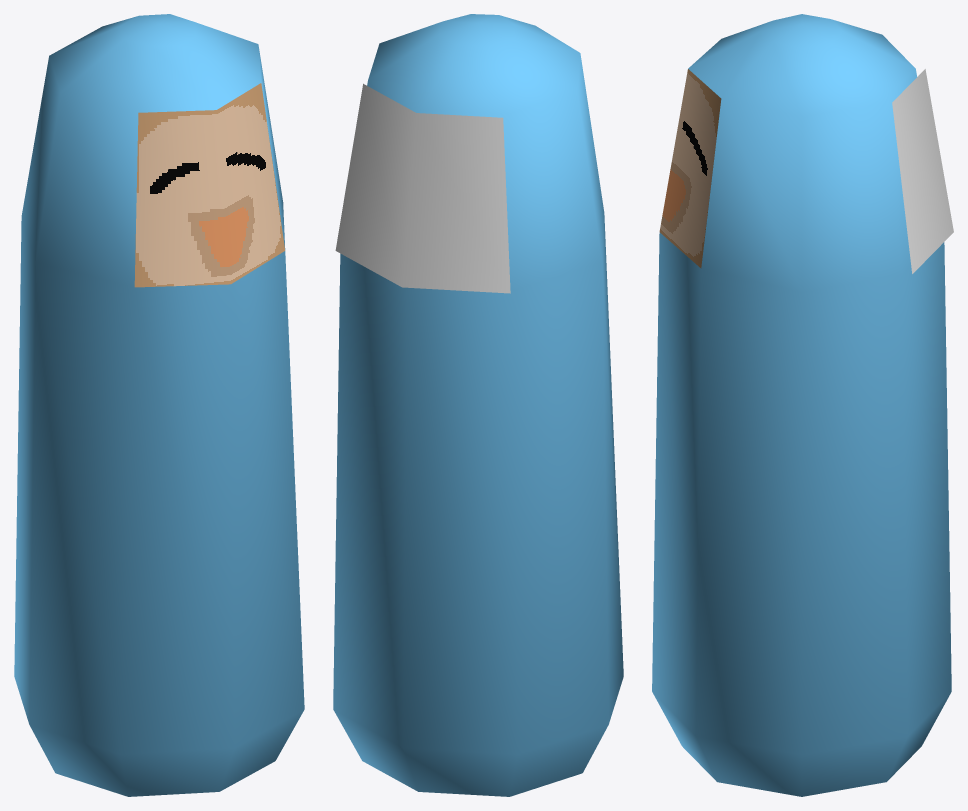
Rendered from OTA_N_02.glb.
3 views of the same model, side by side, from view 1: azimuth 30°, elevation 25°; view 2: azimuth 150°, elevation 25°; view 3: azimuth 270°, elevation 25° (orthographic).
Parts seen in each view (by area): view 1: FRAME_ROOT; view 2: FRAME_ROOT; view 3: FRAME_ROOT.
Boxes of the visible parts, bbox=[...] form: FRAME_ROOT: bbox=[14, 14, 304, 796]; FRAME_ROOT: bbox=[333, 14, 623, 796]; FRAME_ROOT: bbox=[652, 14, 953, 796].
Bounding box in the file's own units: 1.28 × 3.4 × 1.29.
3 materials, 3 textured.
